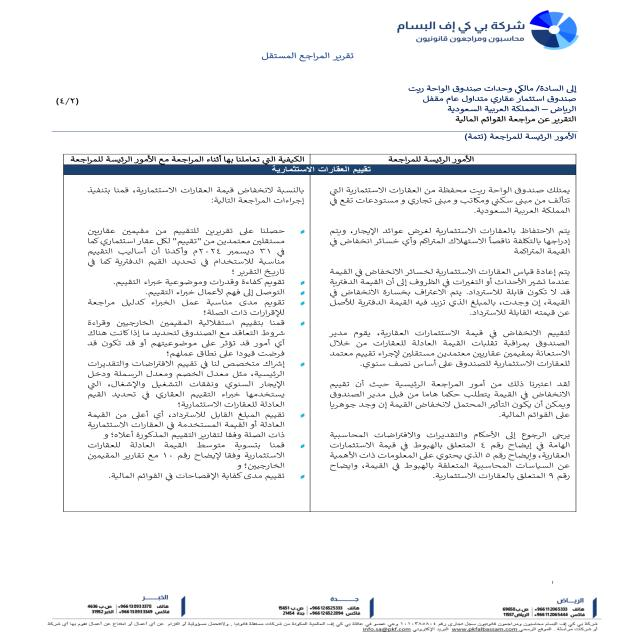auditor_report: (452, 130, 598, 146), (255, 46, 365, 66)
